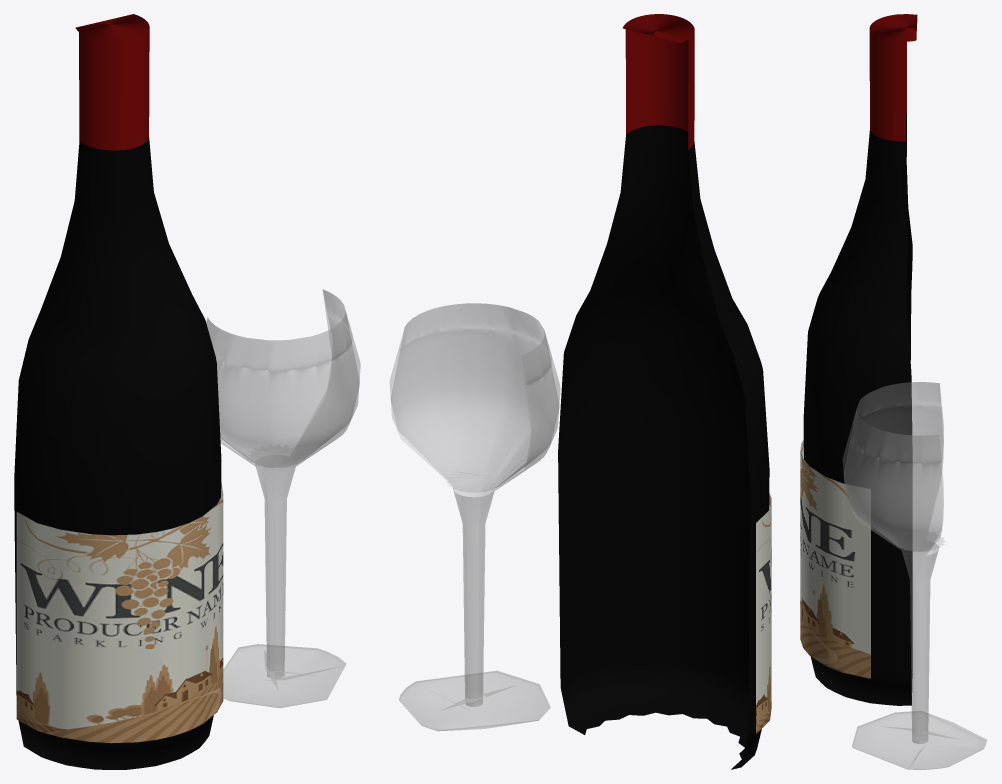
The model's file is wine.fbx.
3 views of the same model, side by side, from view 1: azimuth 30°, elevation 25°; view 2: azimuth 150°, elevation 25°; view 3: azimuth 270°, elevation 25° (orthographic). The views are drawn at different scales.
Visible parts, largest first — view 1: polySurface1, polySurface2, polySurface4; view 2: polySurface1, polySurface4, polySurface2; view 3: polySurface1, polySurface4, polySurface2.
Part boxes in pixels (x1,y1,x2,y2): polySurface1: (14,14,221,769); polySurface2: (16,482,223,743); polySurface4: (206,289,360,707); polySurface1: (558,14,769,769); polySurface4: (390,303,560,731); polySurface2: (756,493,771,733); polySurface1: (803,14,917,705); polySurface4: (842,382,986,769); polySurface2: (800,440,870,678).
Bounding box in the file's own units: 4.93 × 9.74 × 2.56.
